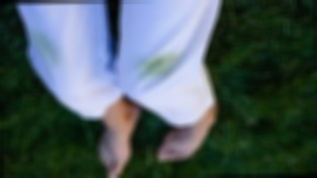earth: (146, 58, 175, 77)
